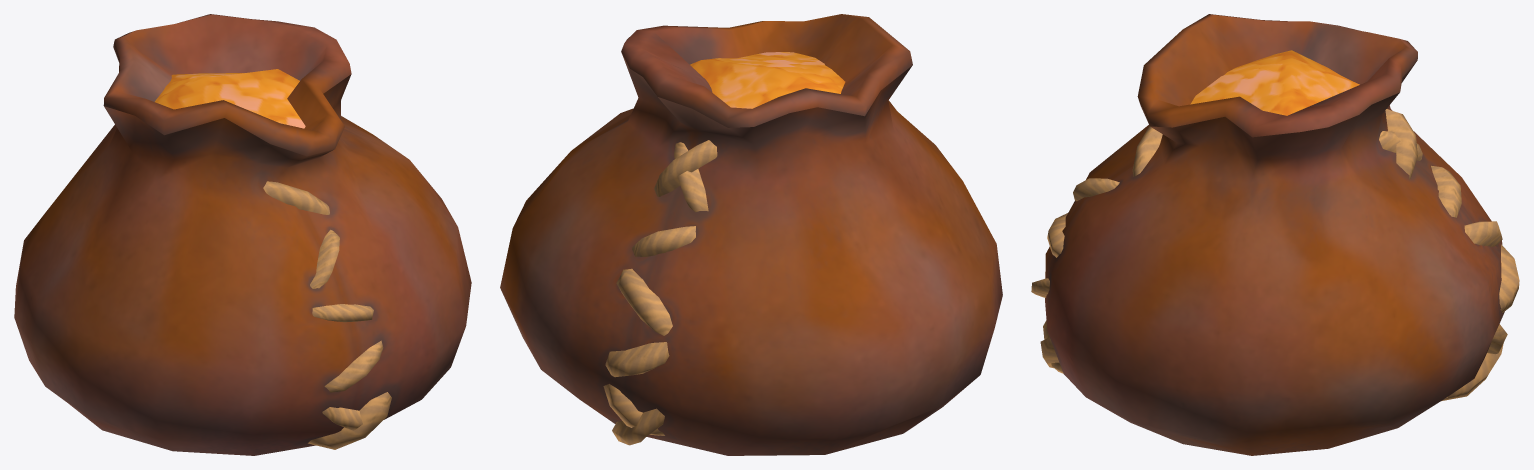
Rendered from SM_Potion_Props_Bag_02_A.fbx.
The picture shows the model from 3 angles, left to right: view 1: azimuth 30°, elevation 25°; view 2: azimuth 150°, elevation 25°; view 3: azimuth 270°, elevation 25°; orthographic projection. The views are drawn at different scales.
Parts seen in each view (by area): view 1: SM_Potion_Props_Bag_02_A_LOD0; view 2: SM_Potion_Props_Bag_02_A_LOD0; view 3: SM_Potion_Props_Bag_02_A_LOD0.
Part boxes in pixels (<box>): SM_Potion_Props_Bag_02_A_LOD0: <box>14,14,471,455</box>; SM_Potion_Props_Bag_02_A_LOD0: <box>500,14,1002,455</box>; SM_Potion_Props_Bag_02_A_LOD0: <box>1031,14,1519,455</box>.
Size of what is drawn, in the model's own units: 22.21 by 17.5 by 23.26.
